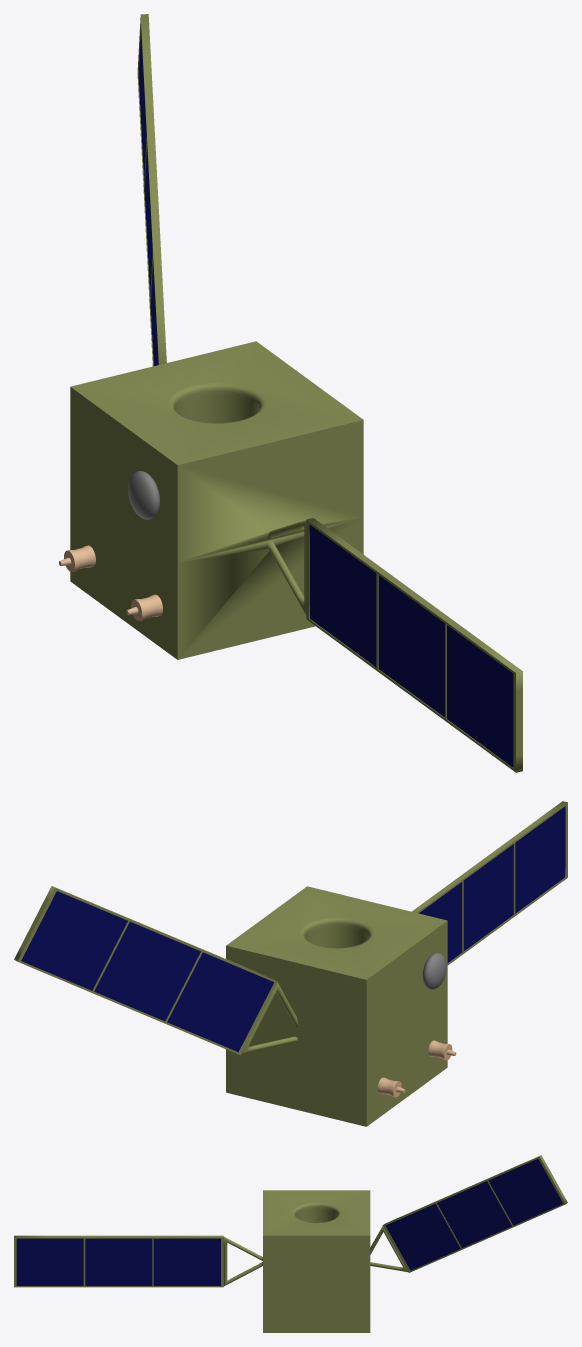
3 renders of one model, top to bottom at view 1: azimuth 30°, elevation 25°; view 2: azimuth 150°, elevation 25°; view 3: azimuth 270°, elevation 25°, orthographic. The views are drawn at different scales.
Parts seen in each view (by area): view 1: Box002, Box005, Cylinder004, Sphere001; view 2: Box002, Box005, Cylinder004, Sphere001; view 3: Box002, Box005.
Part boxes in pixels (x1,y1,x2,y2): Box002: (70, 14, 522, 772); Box005: (138, 29, 513, 767); Cylinder004: (59, 545, 162, 621); Sphere001: (128, 471, 159, 519); Box002: (14, 801, 567, 1126); Box005: (21, 806, 565, 1052); Cylinder004: (377, 1040, 456, 1097); Sphere001: (422, 953, 446, 989); Box002: (14, 1155, 567, 1332); Box005: (16, 1159, 563, 1285).
Bounding box in the file's own units: 25.51 × 31.12 × 81.21.
